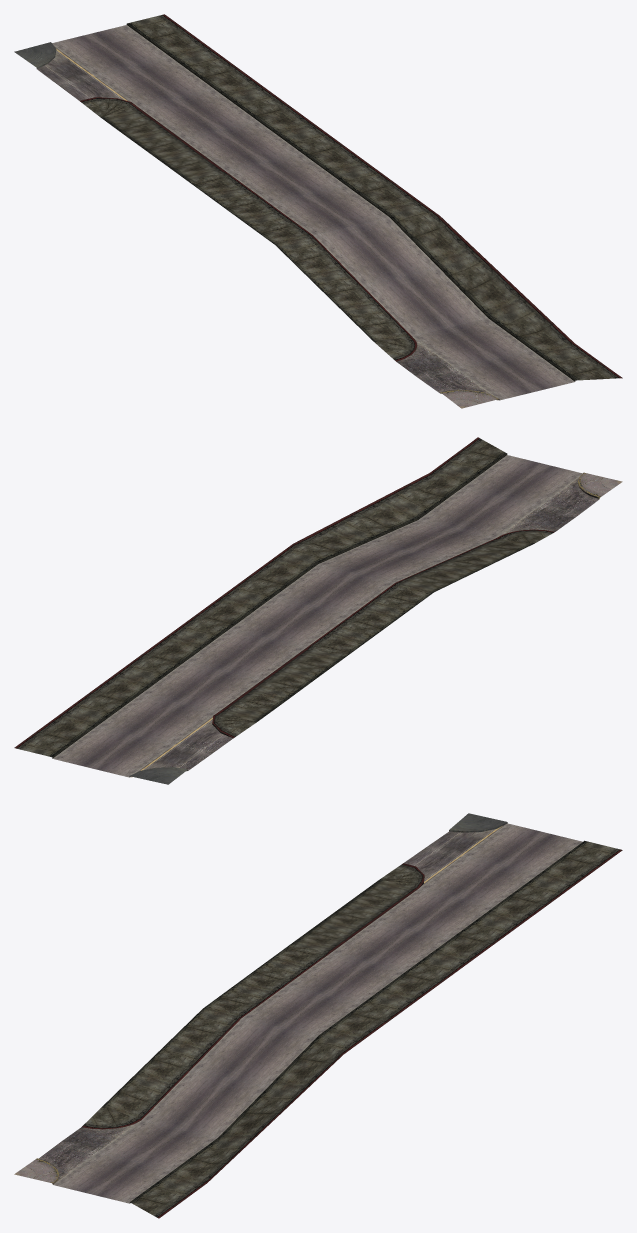
File: lae2_roads26.obj
3 views of the same model, one above another, from view 1: azimuth 30°, elevation 25°; view 2: azimuth 150°, elevation 25°; view 3: azimuth 330°, elevation 25° (orthographic).
Parts seen in each view (by area): view 1: Lae2_roads26; view 2: Lae2_roads26; view 3: Lae2_roads26.
Boxes of the visible parts, bbox=[...] form: Lae2_roads26: bbox=[14, 14, 622, 408]; Lae2_roads26: bbox=[14, 437, 622, 784]; Lae2_roads26: bbox=[14, 813, 622, 1218].
Size of the model in its own units: 20.13 by 3.8 by 105.
